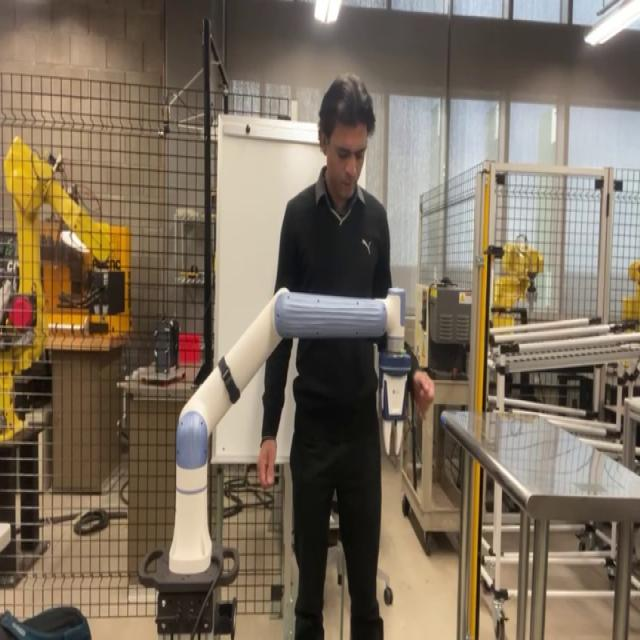robot: (137, 283, 419, 637)
